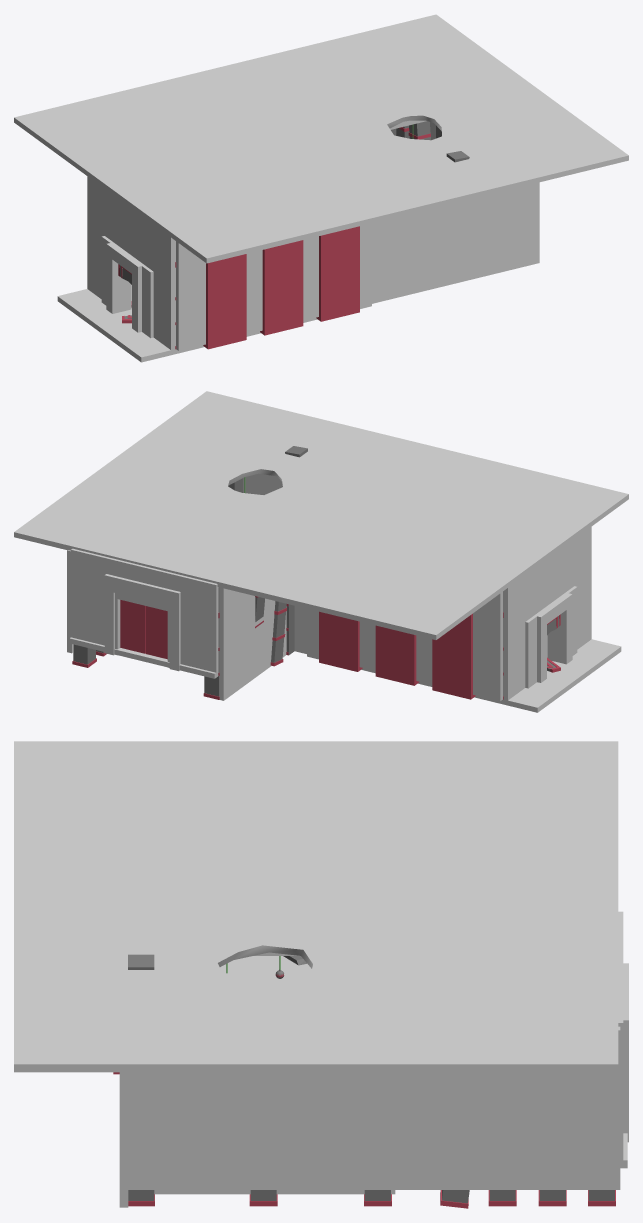
The model's file is DerniereSalle.FBX.
3 renders of one model, top to bottom at view 1: azimuth 30°, elevation 25°; view 2: azimuth 150°, elevation 25°; view 3: azimuth 270°, elevation 25°, orthographic. The views are drawn at different scales.
Visible parts, largest first — view 1: Plafond, Mur003, Mur002, Pilier004, Pilier003, Pilier005, Porte, SOL1; view 2: Plafond, Mur005, Mur002, Mur001, Mur006, Porte (×2), SOL1, PorteEnd, Pilier, Pilier001, Pilier002, Porte001 (+6 smaller); view 3: Plafond, Mur004, SOL1, Mur003, Mur005, PorteEnd, SOL2.
Boxes of the visible parts, x1,y1,x2,y2 form: Plafond: (14,14,628,263); Mur003: (176,182,539,350); Mur002: (87,176,175,349); Pilier004: (260,240,303,335); Pilier003: (316,226,359,321); Pilier005: (203,254,246,349); Porte: (101,236,153,338); SOL1: (57,285,371,362); Plafond: (14,391,628,639); Mur005: (71,548,218,672); Mur002: (503,527,591,700); Mur001: (294,591,502,701); Mur006: (219,587,286,700); Porte (×2): (145,586,577,688); SOL1: (307,635,621,712); PorteEnd: (104,574,180,671); Pilier: (432,613,475,699); Pilier001: (375,625,419,685); Pilier002: (319,611,362,671); Porte001: (120,600,145,653); Plafond: (14,741,618,1072); Mur004: (128,1026,620,1189); SOL1: (220,956,311,980); Mur003: (119,1072,128,1207); Mur005: (618,911,623,1160); PorteEnd: (623,963,628,1142); SOL2: (154,1190,395,1194).
Bounding box in the file's own units: 3671 × 984 × 2764.
Materials: 15 (3 with a texture image).
